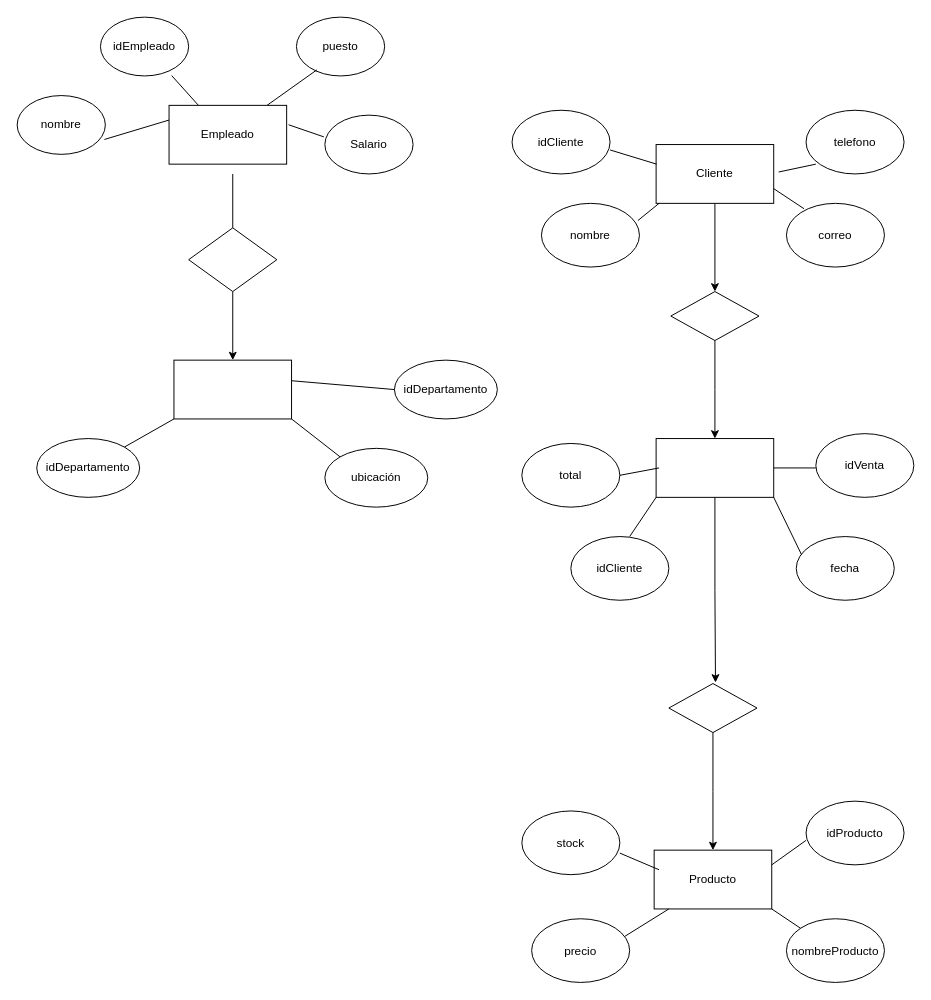
This 931x1000 diagram has some shape labels left out. The centre of each missing label's shape, as x and y in pixels:
"Departamento" belongs at point 232,389.
"Incluye" belongs at point 712,708.
"Realiza" belongs at point 714,316.
"tiene" belongs at point 232,259.
"Venta" belongs at point 714,467.
